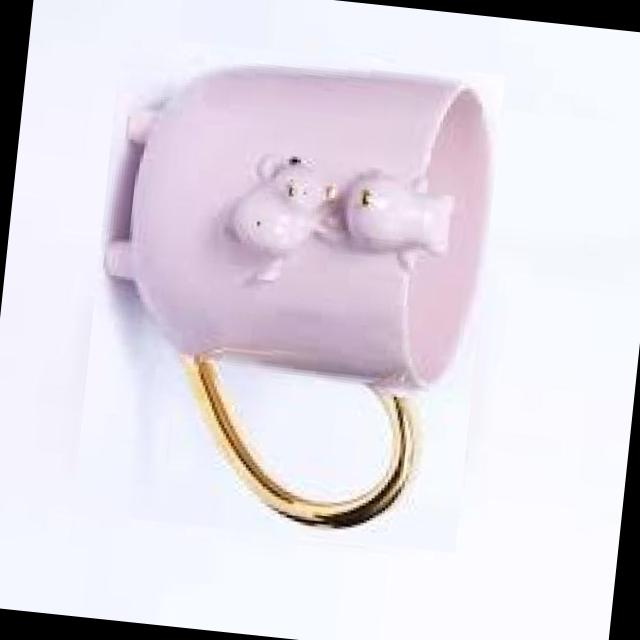Coffee Mug: (75, 46, 505, 546)
